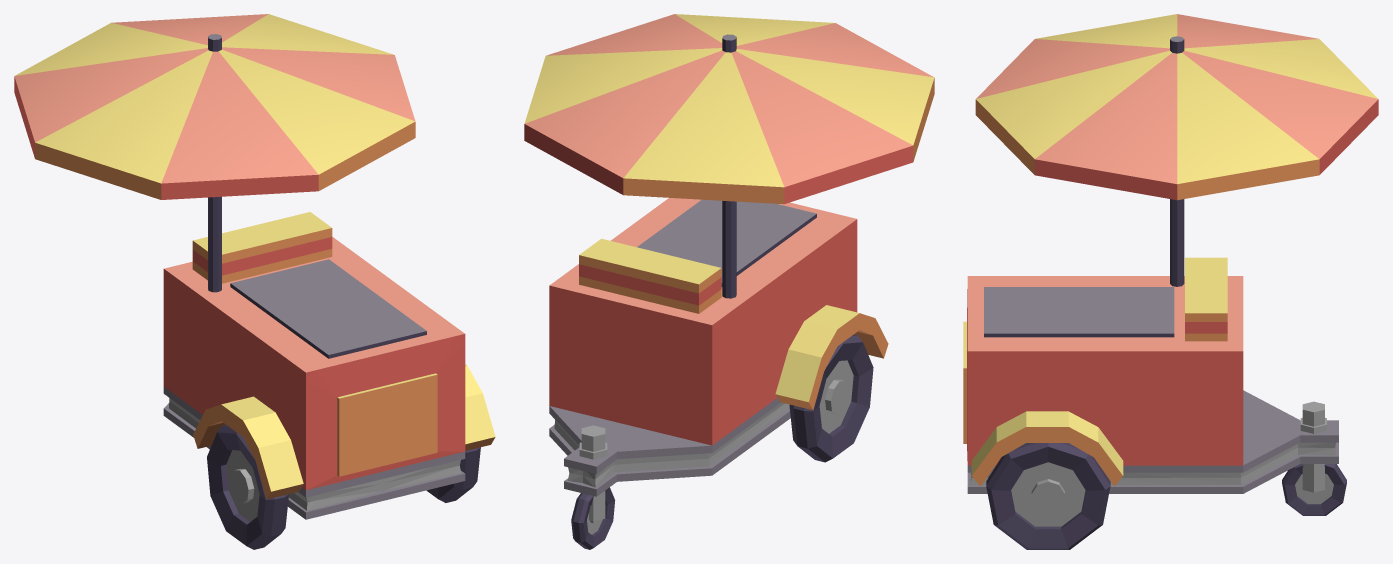
Rendered from hotdog stand fbx.fbx.
3 views of the same model, side by side, from view 1: azimuth 30°, elevation 25°; view 2: azimuth 150°, elevation 25°; view 3: azimuth 270°, elevation 25° (orthographic). The views are drawn at different scales.
Parts seen in each view (by area): view 1: pCylinder7, pCube1, pCylinder6, pCube2, pCube4, pCube3, pCylinder8, pCylinder1; view 2: pCylinder7, pCube1, pCube2, pCylinder6, pCube4, pCylinder8, pCylinder2, pCylinder3; view 3: pCylinder7, pCube1, pCylinder1, pCube3, pCube2, pCylinder2, pCylinder8, pCylinder3.
Boxes of the visible parts, x1,y1,x2,y2 form: pCylinder7: (14, 14, 415, 199); pCube1: (163, 237, 465, 519); pCylinder6: (207, 425, 288, 549); pCube2: (192, 212, 332, 283); pCube4: (193, 396, 303, 499); pCube3: (465, 364, 495, 450); pCylinder8: (208, 34, 221, 292); pCylinder1: (426, 447, 480, 502); pCylinder7: (524, 14, 934, 204); pCube1: (549, 198, 857, 496); pCube2: (579, 238, 721, 313); pCylinder6: (789, 334, 873, 462); pCube4: (775, 305, 888, 409); pCylinder8: (722, 34, 736, 298); pCylinder2: (571, 487, 615, 549); pCylinder3: (579, 425, 607, 521); pCylinder7: (975, 14, 1378, 200); pCube1: (963, 276, 1338, 493); pCylinder1: (986, 443, 1110, 549); pCube3: (971, 411, 1123, 486); pCube2: (1185, 257, 1227, 341); pCylinder2: (1282, 464, 1346, 515); pCylinder8: (1170, 36, 1184, 286); pCylinder3: (1300, 401, 1326, 492).
Size of the model in its own units: 5.59 by 6.83 by 5.76.
